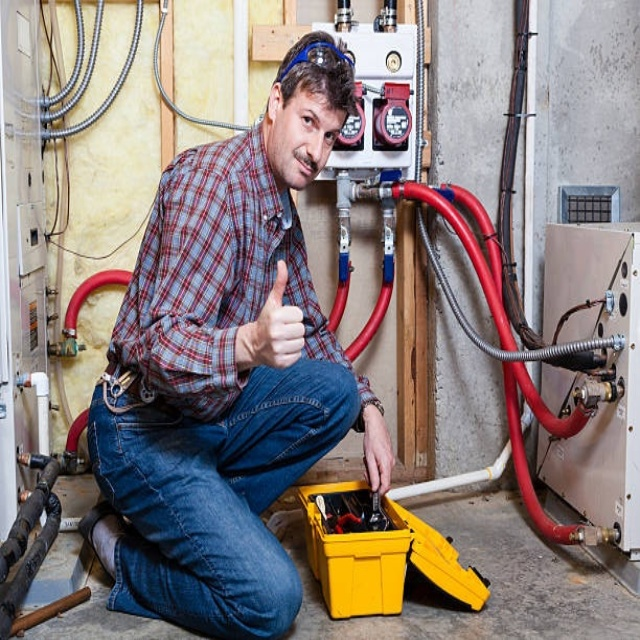Sin_gafas: (292, 102, 340, 151)
Sin_guantes: (248, 262, 306, 370), (359, 405, 396, 500)
Sin_mascara: (285, 150, 318, 188)
